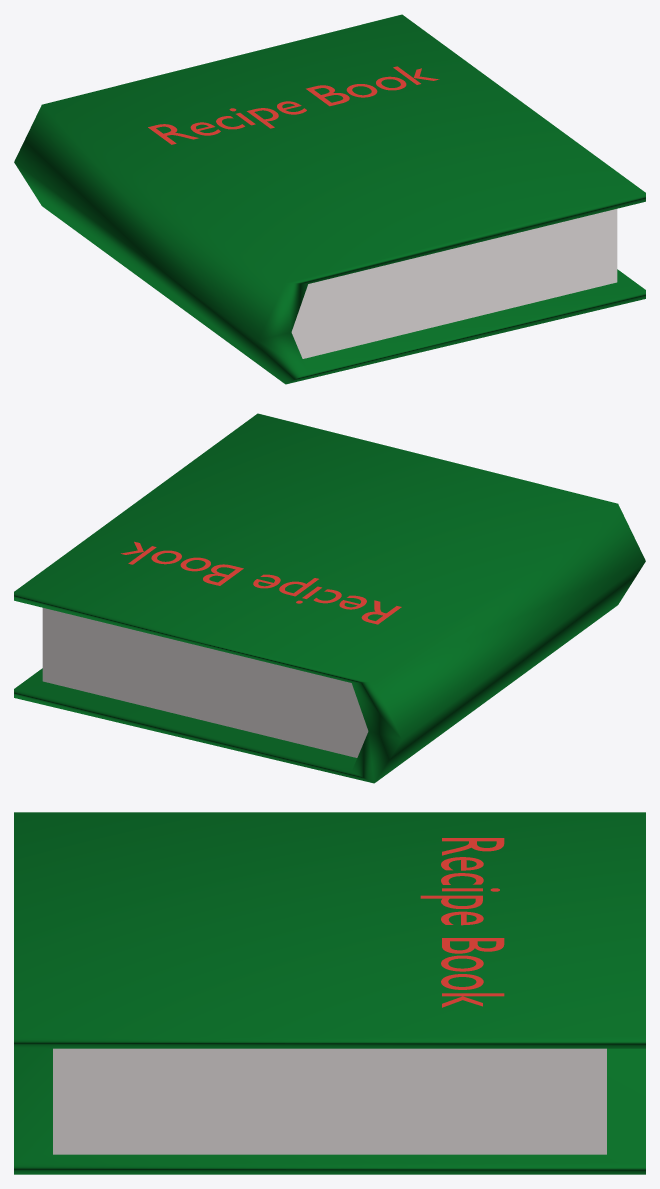
File: Recipe Book Unopened.fbx
3 views of the same model, one above another, from view 1: azimuth 30°, elevation 25°; view 2: azimuth 150°, elevation 25°; view 3: azimuth 270°, elevation 25° (orthographic). The views are drawn at different scales.
Parts seen in each view (by area): view 1: Cube, Cube.001, Death Note; view 2: Cube, Cube.001, Death Note; view 3: Cube, Cube.001, Death Note.
Boxes of the visible parts, x1,y1,x2,y2 form: Cube: [14, 14, 645, 384]; Cube.001: [291, 209, 617, 358]; Death Note: [148, 66, 439, 144]; Cube: [14, 413, 645, 783]; Cube.001: [42, 608, 368, 757]; Death Note: [121, 541, 401, 624]; Cube: [14, 812, 645, 1174]; Cube.001: [53, 1048, 606, 1154]; Death Note: [420, 838, 504, 1007].
Bounding box in the file's own units: 91.98 × 24.6 × 100.
